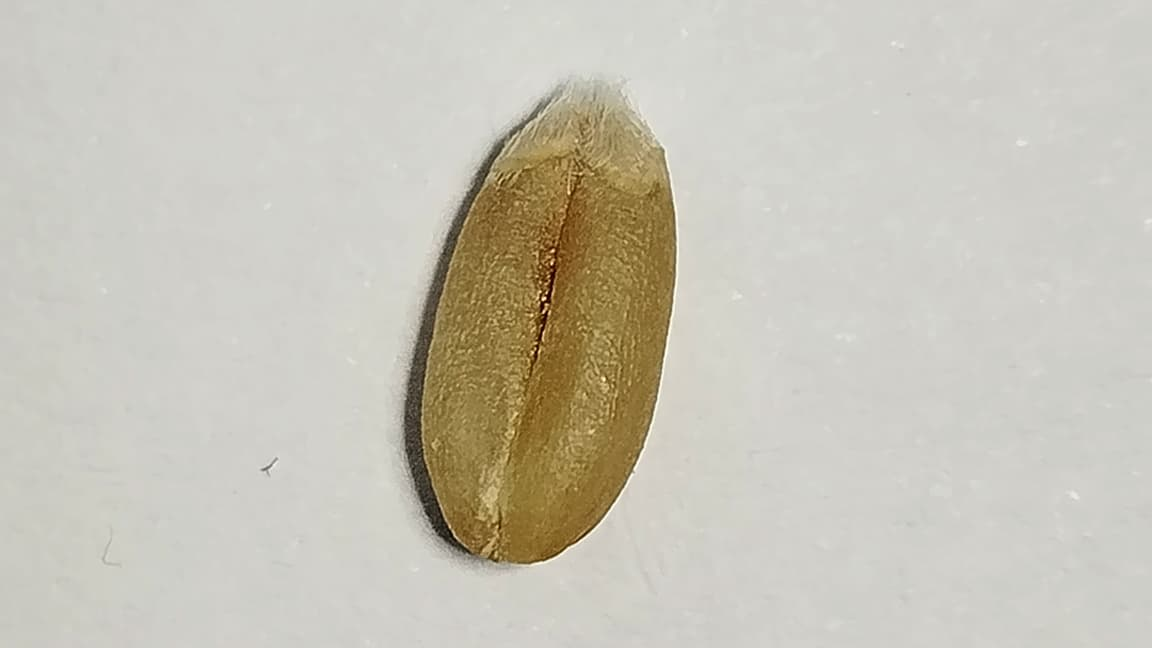healthy: (423, 86, 675, 561)
